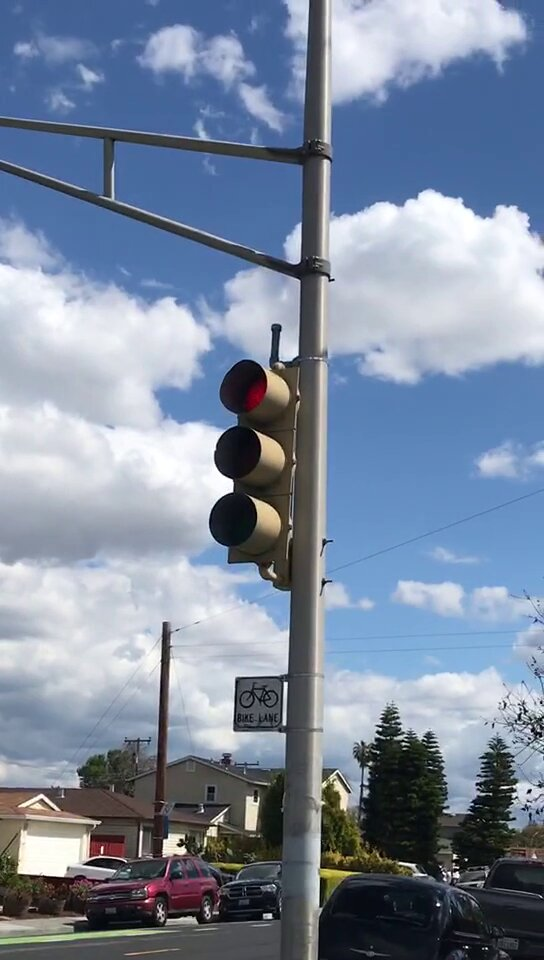red_light: (222, 363, 274, 549)
